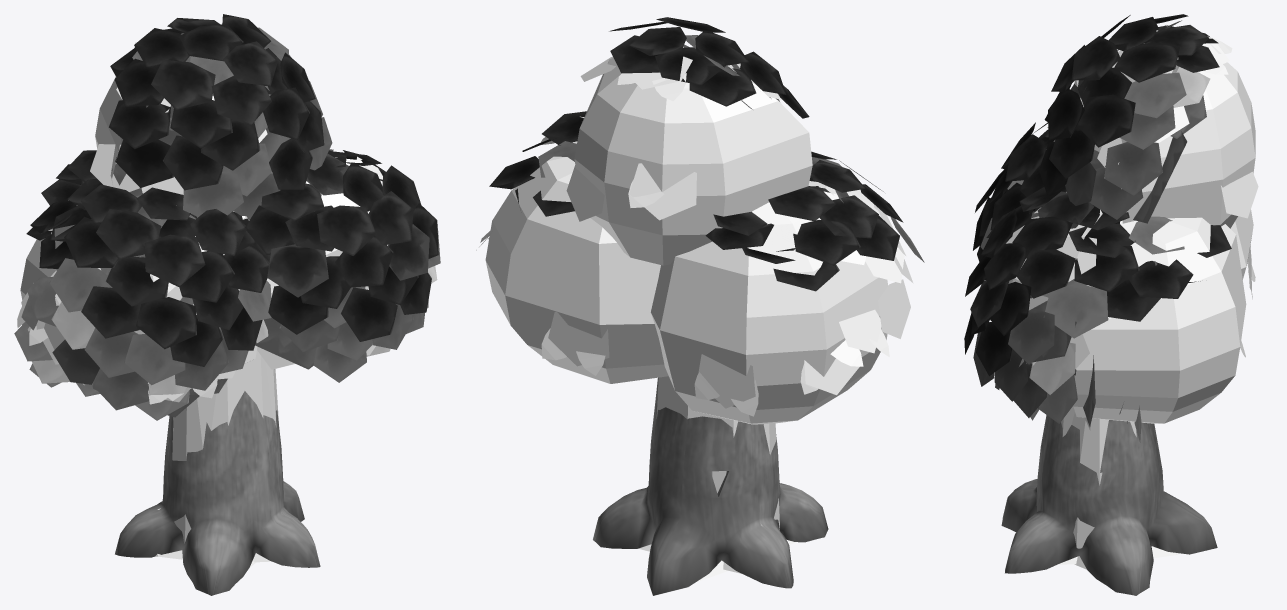
The model's file is PltTreeOak4Node.glb.
3 views of the same model, side by side, from view 1: azimuth 30°, elevation 25°; view 2: azimuth 150°, elevation 25°; view 3: azimuth 270°, elevation 25° (orthographic). The views are drawn at different scales.
Parts seen in each view (by area): view 1: L01_01__mTreeOakLeaf, TrunkBottom__mPltTreeOakTrunk, LB014_1__mShadow, L02_011_1__mShadowShake, LB014__mTreeOakLeafBack; view 2: LB014_1__mShadow, TrunkBottom__mPltTreeOakTrunk, L01_01__mTreeOakLeaf, L02_011_1__mShadowShake; view 3: L01_01__mTreeOakLeaf, LB014_1__mShadow, TrunkBottom__mPltTreeOakTrunk, L02_011_1__mShadowShake, LB014__mTreeOakLeafBack.
Boxes of the visible parts, x1,y1,x2,y2 form: L01_01__mTreeOakLeaf: [14, 14, 440, 420]; TrunkBottom__mPltTreeOakTrunk: [115, 391, 320, 595]; LB014_1__mShadow: [20, 77, 387, 567]; L02_011_1__mShadowShake: [17, 42, 382, 404]; LB014__mTreeOakLeafBack: [27, 33, 316, 390]; LB014_1__mShadow: [485, 57, 905, 581]; TrunkBottom__mPltTreeOakTrunk: [593, 377, 828, 595]; L01_01__mTreeOakLeaf: [489, 17, 924, 291]; L02_011_1__mShadowShake: [476, 56, 913, 416]; L01_01__mTreeOakLeaf: [964, 14, 1231, 442]; LB014_1__mShadow: [1006, 25, 1255, 569]; TrunkBottom__mPltTreeOakTrunk: [1001, 415, 1217, 595]; L02_011_1__mShadowShake: [1019, 36, 1258, 369]; LB014__mTreeOakLeafBack: [1026, 20, 1206, 426].
Bounding box in the file's own units: 26.71 × 33.16 × 17.69.
5 materials, 3 textured.
